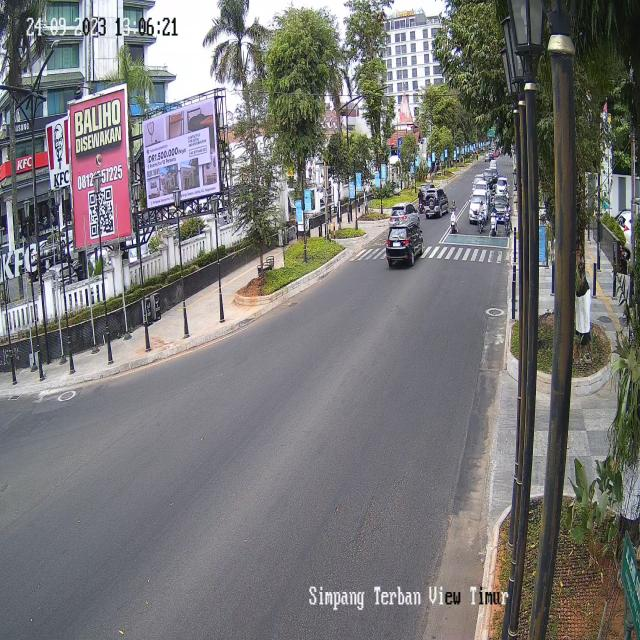car: (386, 220, 424, 270), (388, 200, 420, 234), (425, 186, 448, 218), (468, 189, 488, 224), (492, 194, 508, 222), (474, 179, 490, 204), (496, 176, 509, 196), (472, 174, 485, 192), (483, 168, 493, 187), (491, 168, 499, 182)
motorcycle: (449, 197, 458, 233), (490, 202, 498, 236), (477, 199, 484, 236), (504, 200, 511, 234), (418, 187, 424, 212)
